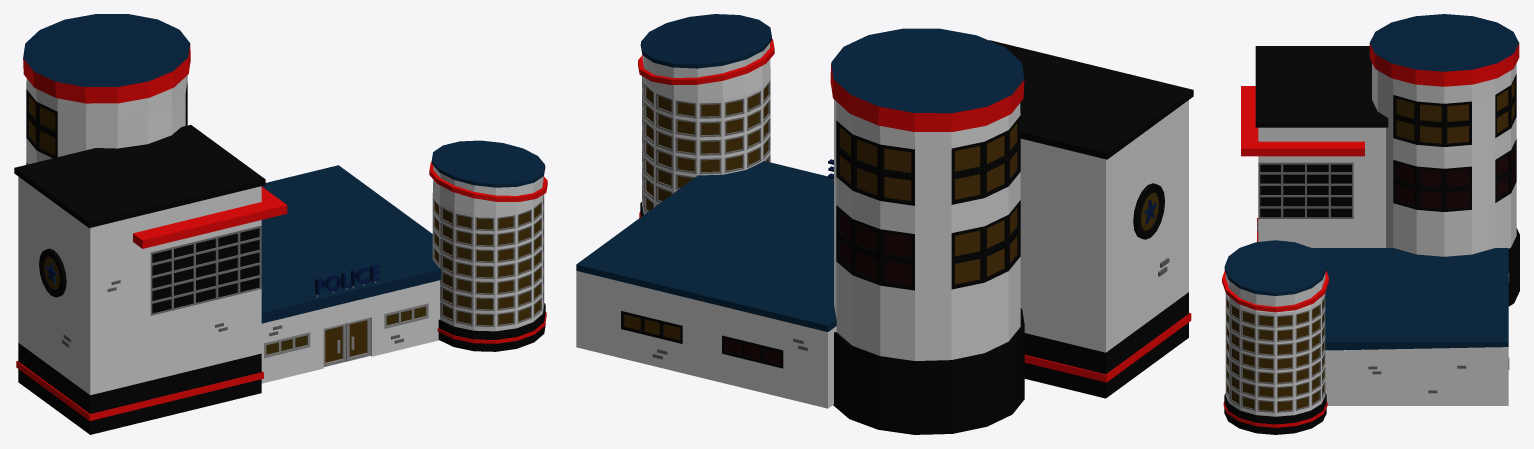
Rendered from Police-4.fbx.
3 renders of one model, left to right at view 1: azimuth 30°, elevation 25°; view 2: azimuth 150°, elevation 25°; view 3: azimuth 270°, elevation 25°, orthographic. The views are drawn at different scales.
Parts seen in each view (by area): view 1: Police-4; view 2: Police-4; view 3: Police-4.
Part boxes in pixels (x1,y1,x2,y2): Police-4: [14, 14, 547, 434]; Police-4: [576, 14, 1193, 434]; Police-4: [1222, 14, 1519, 434].
Size of what is drawn, in the model's own units: 30.54 by 17.81 by 19.18.
